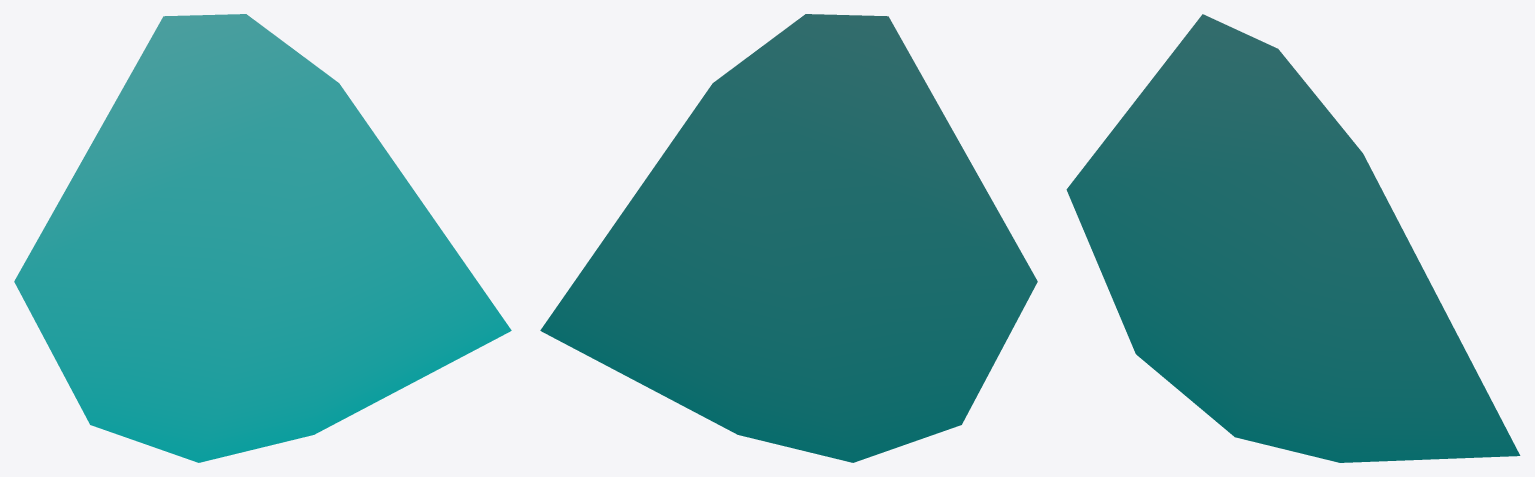
Rendered from Kikuyu_Grass_wiljearqx_High_wiljearqx_VarB_LOD3.fbx.
3 renders of one model, left to right at view 1: azimuth 30°, elevation 25°; view 2: azimuth 150°, elevation 25°; view 3: azimuth 330°, elevation 25°, orthographic. The views are drawn at different scales.
Parts seen in each view (by area): view 1: _7q4v_VarB_LOD6; view 2: _7q4v_VarB_LOD6; view 3: _7q4v_VarB_LOD6.
Part boxes in pixels (x1,y1,x2,y2): _7q4v_VarB_LOD6: [14, 14, 511, 462]; _7q4v_VarB_LOD6: [540, 14, 1037, 462]; _7q4v_VarB_LOD6: [1066, 14, 1520, 462].
Size of the model in its own units: 54.51 by 47.66 by 0.
